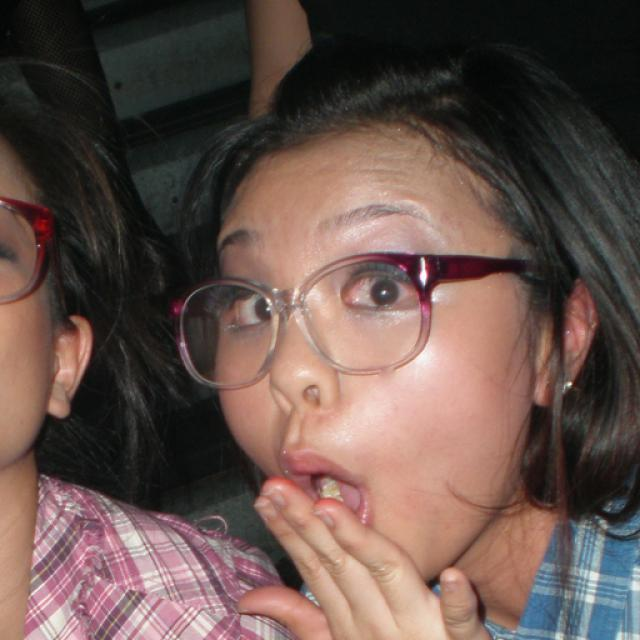surprise: (210, 122, 535, 590)
